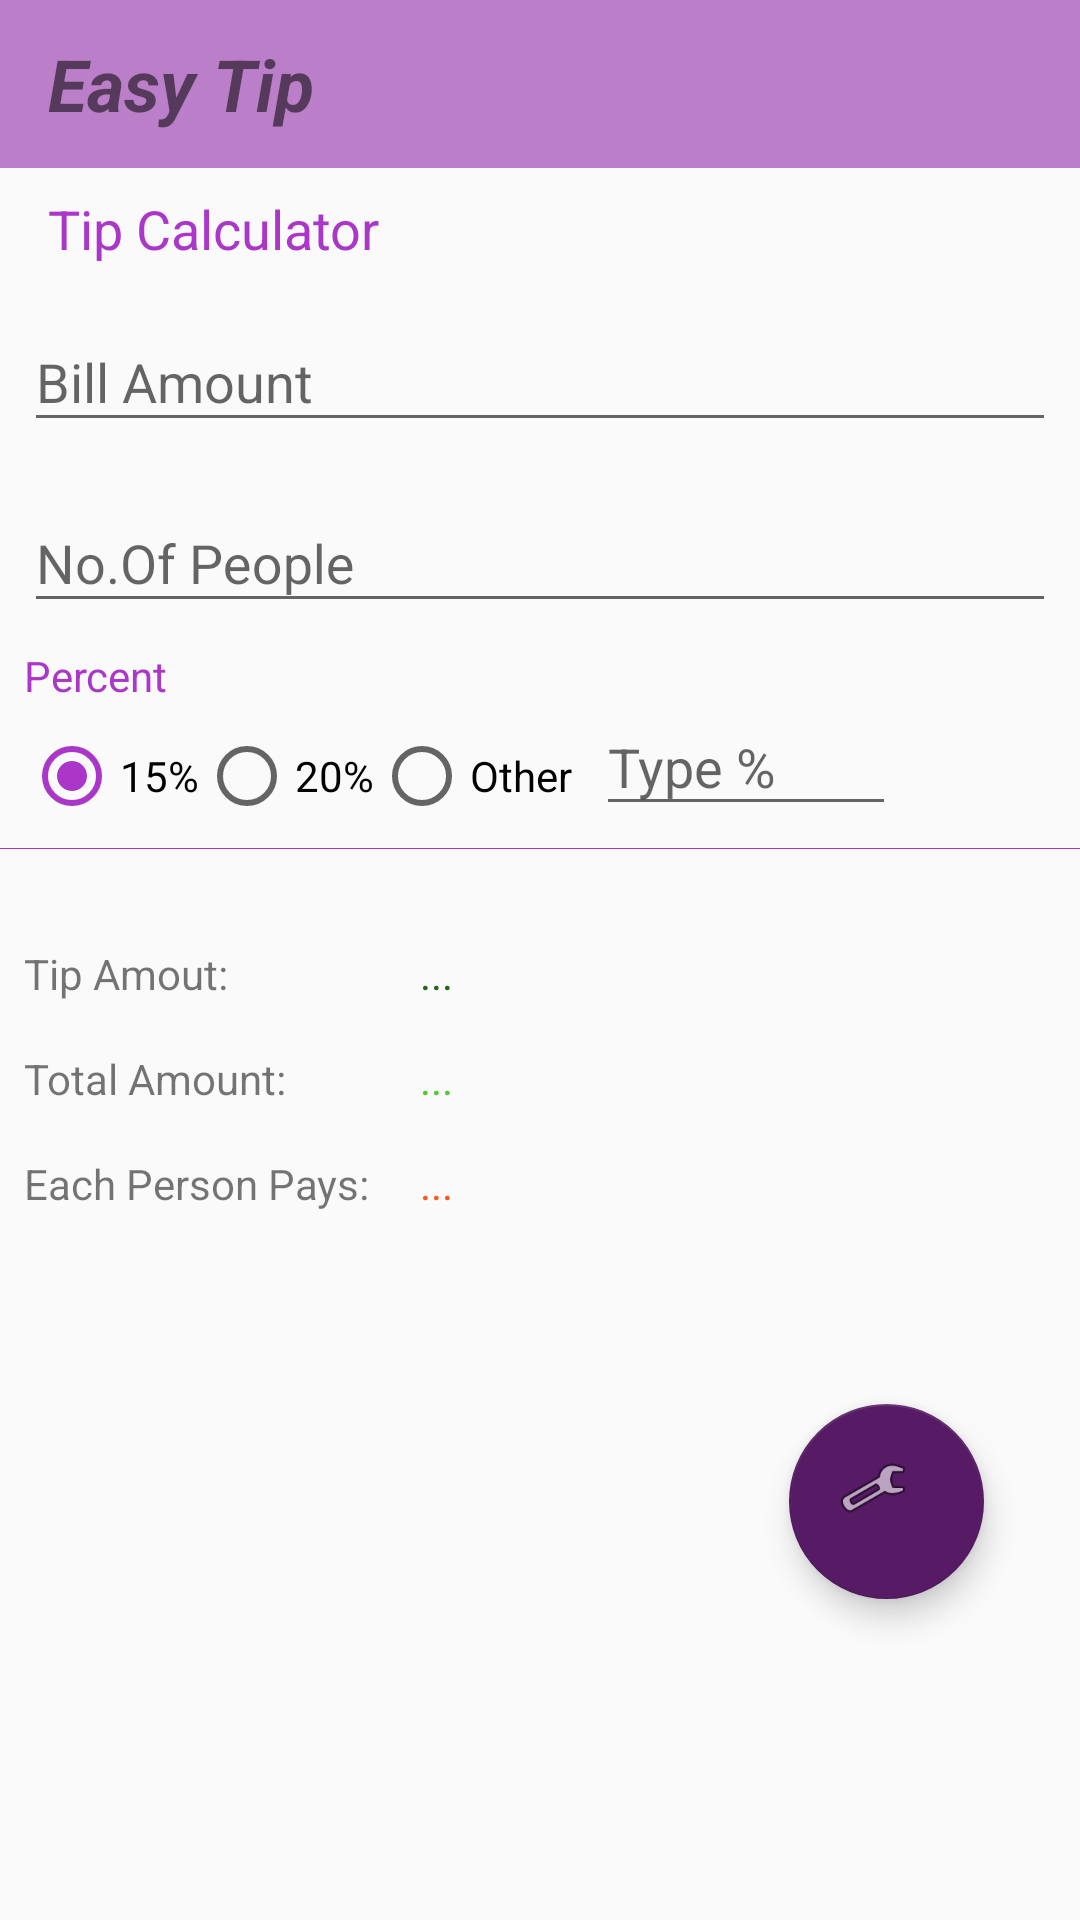

Where icons sit on this 1080w x 1920h app screen, as bbox=(x1, y1, x2, y2):
manage: bbox=(789, 1404, 984, 1599)
